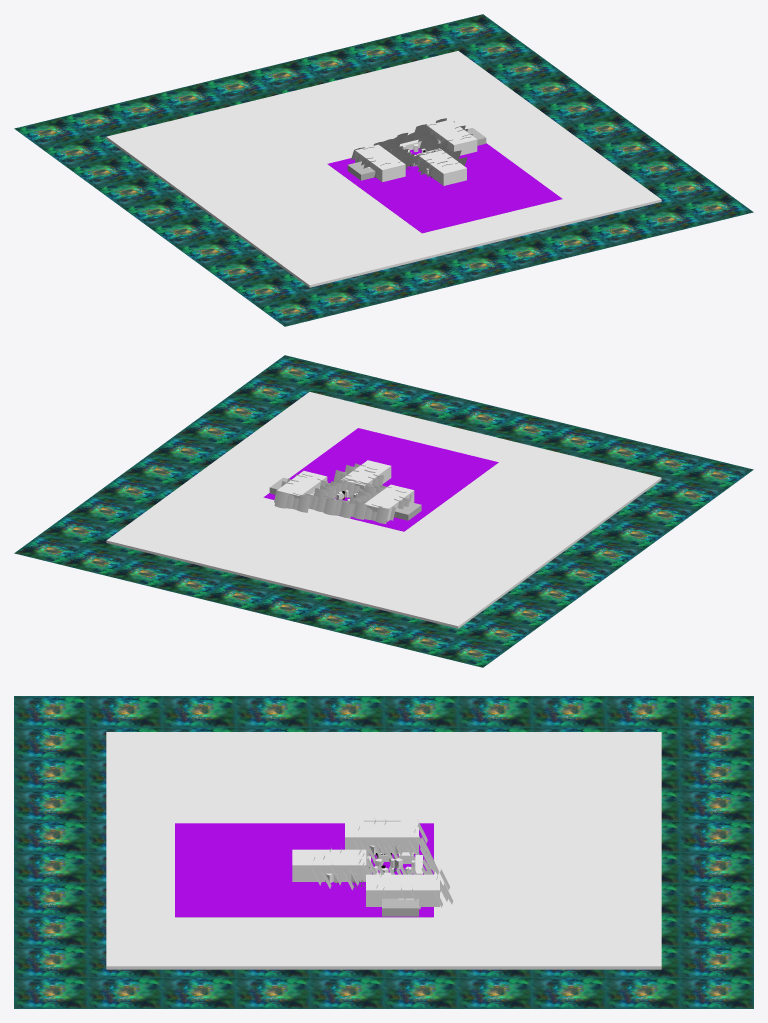
3 views of the same model, one above another, from view 1: azimuth 30°, elevation 25°; view 2: azimuth 150°, elevation 25°; view 3: azimuth 270°, elevation 25° (orthographic). The views are drawn at different scales.
Parts seen in each view (by area): view 1: Cube_jimen, FieldDungeon_FreeBackGround_001, NavGrid_CheckArea, Game_Camera_Limit01 (1), Game_Camera_Limit01 (2), Game_Camera_Limit01; view 2: Cube_jimen, FieldDungeon_FreeBackGround_001, NavGrid_CheckArea, FieldArea_02_001_tree_2 (×2), Game_Camera_Limit01 (2), Game_Camera_Limit01 (1), Game_Camera_Limit01; view 3: Cube_jimen, FieldDungeon_FreeBackGround_001, NavGrid_CheckArea, Game_Camera_Limit01 (1), Game_Camera_Limit01, Game_Camera_Limit01 (2), Guard_NavBox.
Part boxes in pixels (bbox=[...]): Cube_jimen: bbox=[106, 51, 661, 287]; FieldDungeon_FreeBackGround_001: bbox=[14, 14, 753, 326]; NavGrid_CheckArea: bbox=[327, 143, 562, 233]; Game_Camera_Limit01 (1): bbox=[416, 148, 466, 185]; Game_Camera_Limit01 (2): bbox=[355, 144, 405, 182]; Game_Camera_Limit01: bbox=[427, 119, 477, 155]; Cube_jimen: bbox=[106, 392, 661, 628]; FieldDungeon_FreeBackGround_001: bbox=[14, 355, 753, 667]; NavGrid_CheckArea: bbox=[263, 428, 498, 531]; FieldArea_02_001_tree_2 (×2): bbox=[274, 489, 395, 523]; Game_Camera_Limit01 (2): bbox=[365, 484, 414, 521]; Game_Camera_Limit01 (1): bbox=[341, 460, 391, 490]; Game_Camera_Limit01: bbox=[276, 471, 327, 498]; Cube_jimen: bbox=[106, 732, 661, 969]; FieldDungeon_FreeBackGround_001: bbox=[14, 696, 753, 1008]; NavGrid_CheckArea: bbox=[175, 823, 433, 917]; Game_Camera_Limit01 (1): bbox=[292, 849, 366, 881]; Game_Camera_Limit01: bbox=[366, 874, 439, 906]; Game_Camera_Limit01 (2): bbox=[345, 821, 418, 853]; Guard_NavBox: bbox=[382, 898, 418, 916].
Size of what is drawn, in the model's own units: 200 by 10.49 by 200.
